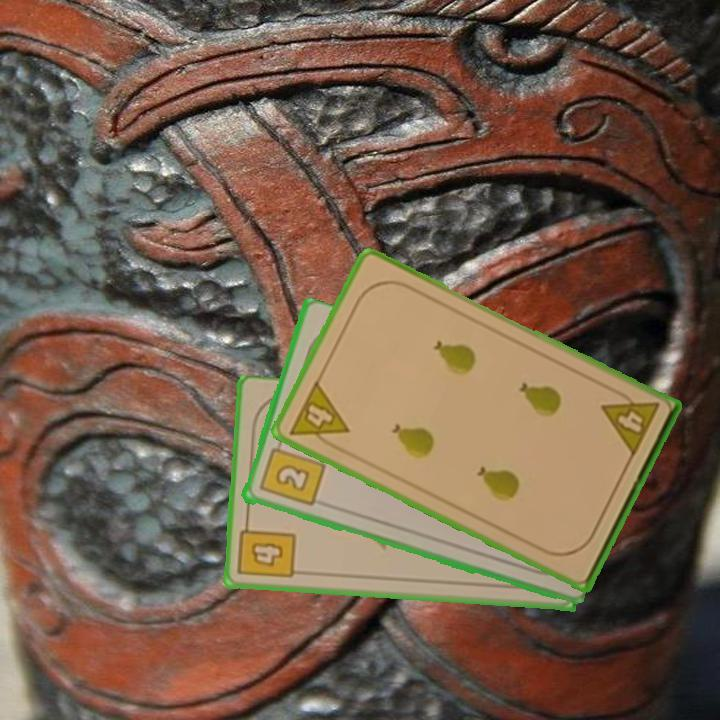2b: (255, 436, 327, 510)
4b: (235, 516, 299, 581)
4p: (286, 377, 352, 454), (597, 384, 663, 460)
